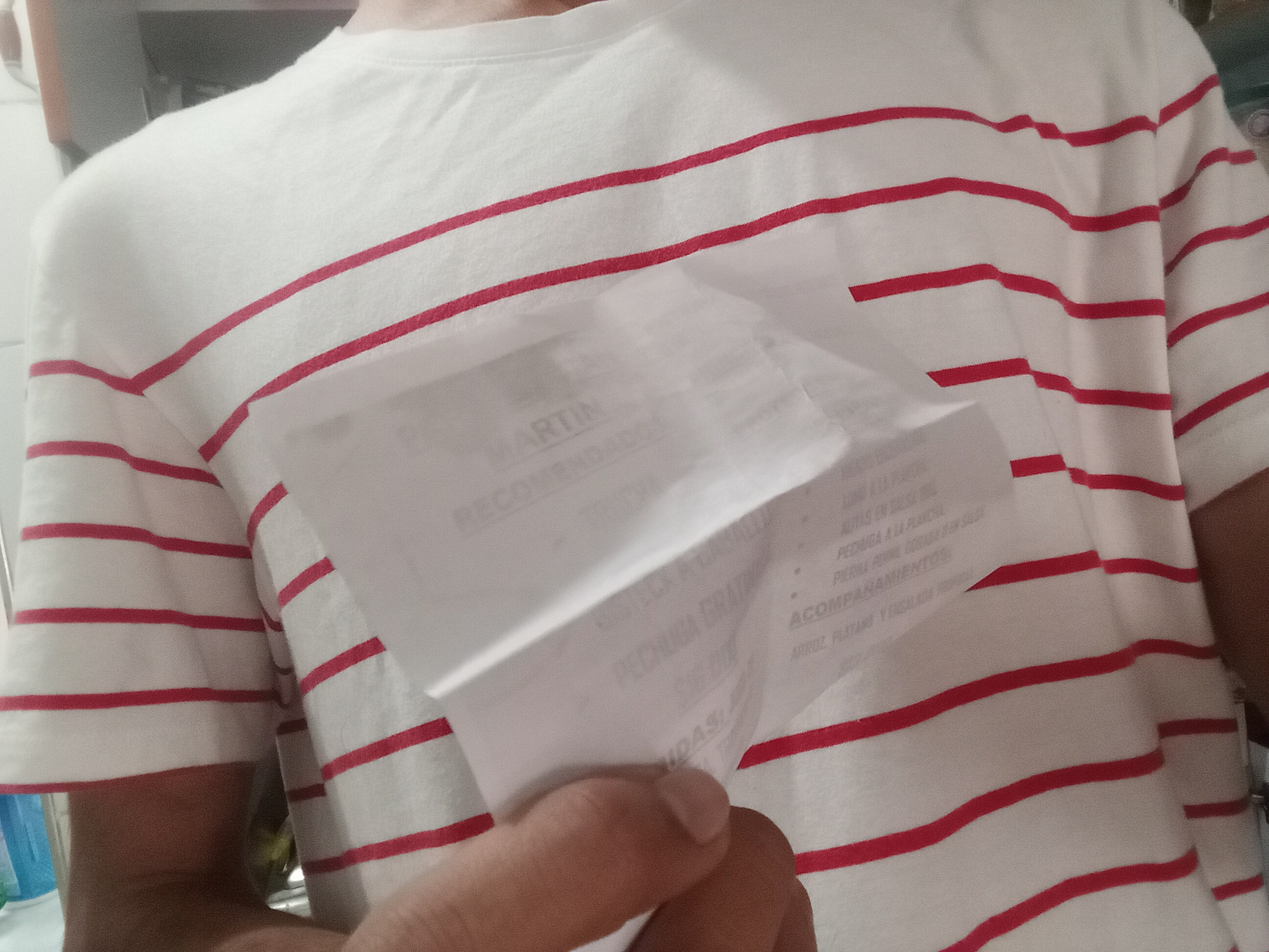Papel: (243, 222, 1025, 951)
